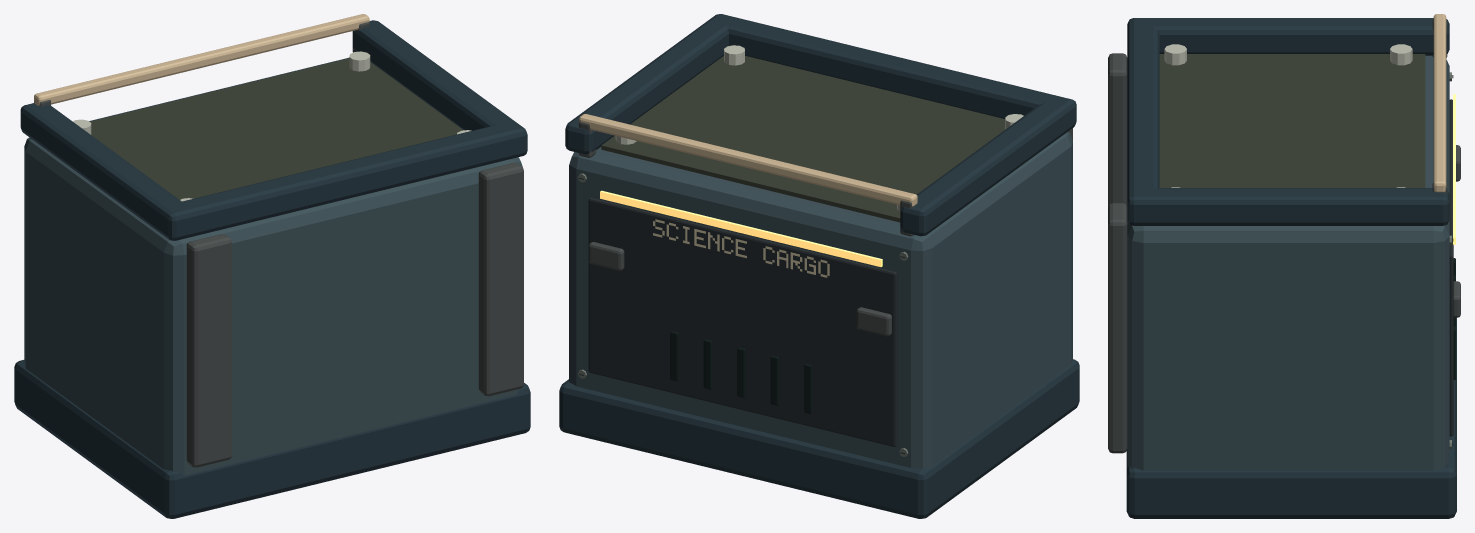
Rendered from science_cargo_bay.glb.
The picture shows the model from 3 angles, left to right: view 1: azimuth 30°, elevation 25°; view 2: azimuth 150°, elevation 25°; view 3: azimuth 270°, elevation 25°; orthographic projection. The views are drawn at different scales.
Visible parts, largest first — view 1: science_cargo_bay; view 2: science_cargo_bay; view 3: science_cargo_bay.
Part boxes in pixels (left/top/right/bottom): science_cargo_bay: left=14, top=14, right=530, bottom=518; science_cargo_bay: left=559, top=14, right=1079, bottom=518; science_cargo_bay: left=1108, top=14, right=1460, bottom=518.
Size of the model in its own units: 0.55 by 0.453 by 0.438.
